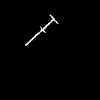double_crochet: (25, 15, 56, 44)
